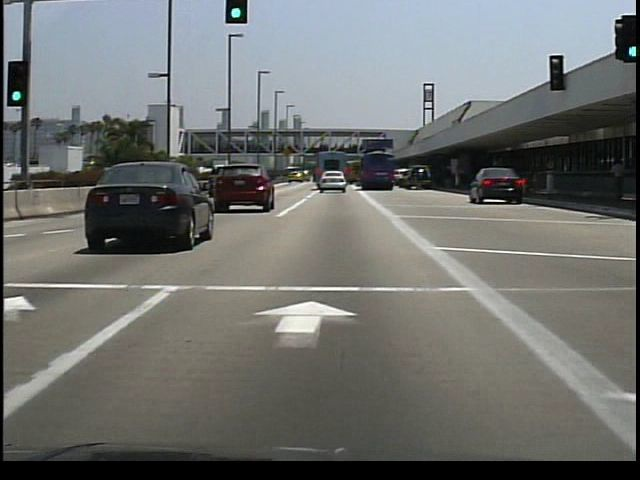person: (604, 156, 627, 208)
